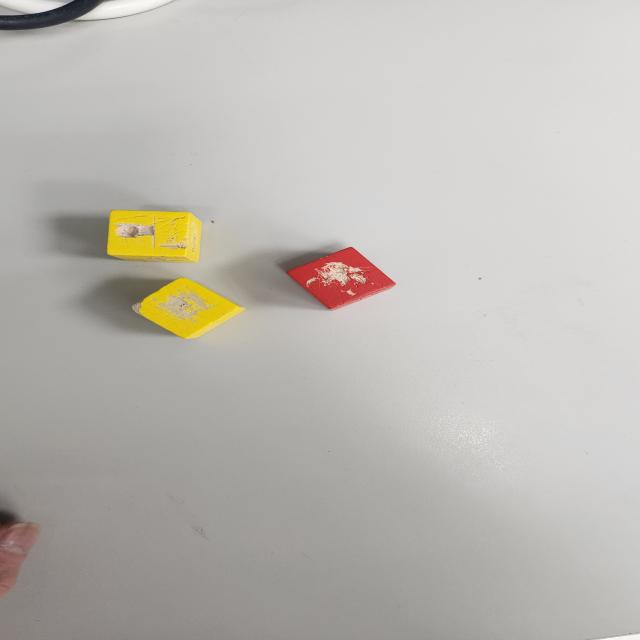broken: (131, 276, 246, 338), (287, 246, 396, 309), (108, 210, 203, 263)
